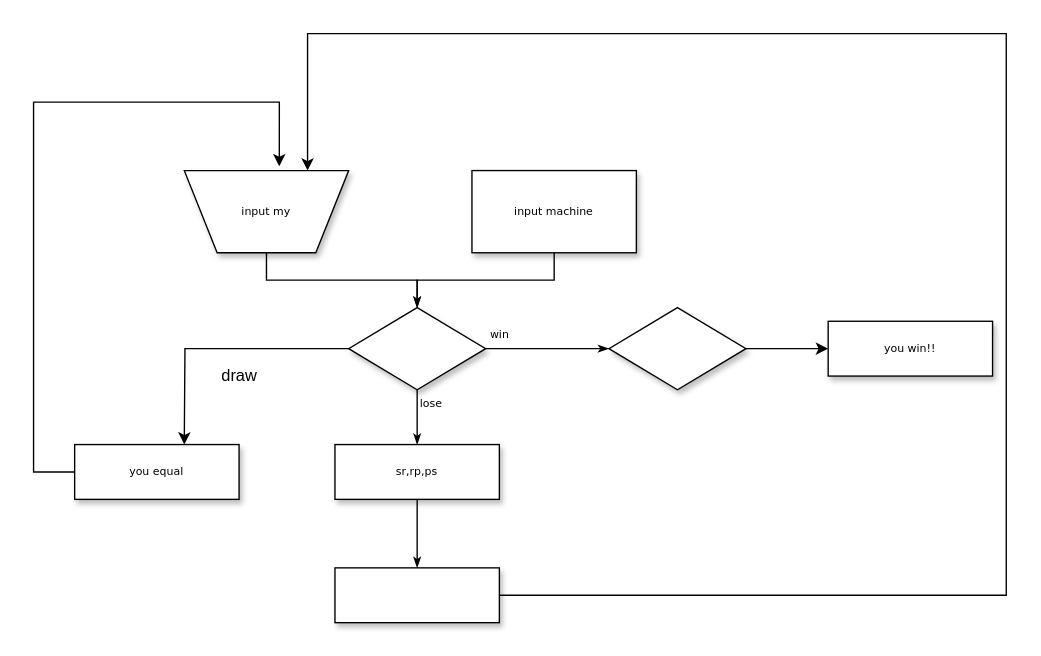
Image size: 1041x656. Some labels were removed from this diagram. Each missing label, with the centre of its shape:
rs.pr,sp: pixel 678 350
what is state: pixel 418 350
you lose: pixel 418 596
